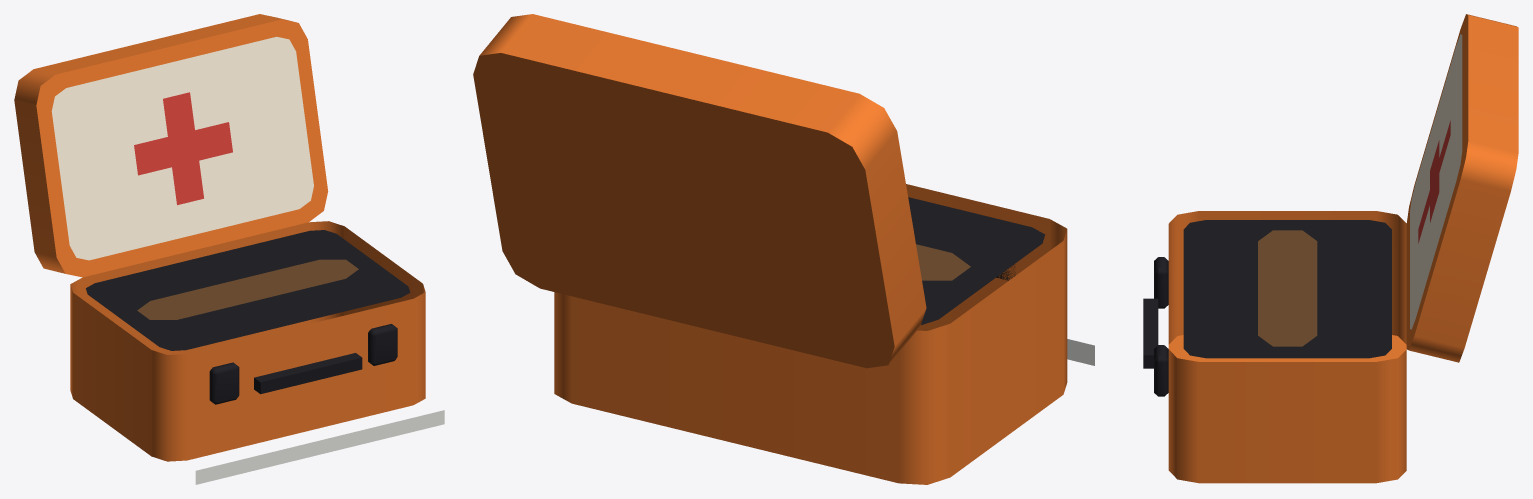
File: CajaBengala.fbx
3 views of the same model, side by side, from view 1: azimuth 30°, elevation 25°; view 2: azimuth 150°, elevation 25°; view 3: azimuth 270°, elevation 25° (orthographic). The views are drawn at different scales.
Parts seen in each view (by area): view 1: CajaBengala; view 2: CajaBengala; view 3: CajaBengala.
Part boxes in pixels (left/top/right/bottom): CajaBengala: left=14, top=14, right=444, bottom=484; CajaBengala: left=473, top=14, right=1094, bottom=484; CajaBengala: left=1143, top=14, right=1518, bottom=483.
Bounding box in the file's own units: 2.4 × 2.51 × 2.66.
1 material, 1 textured.
